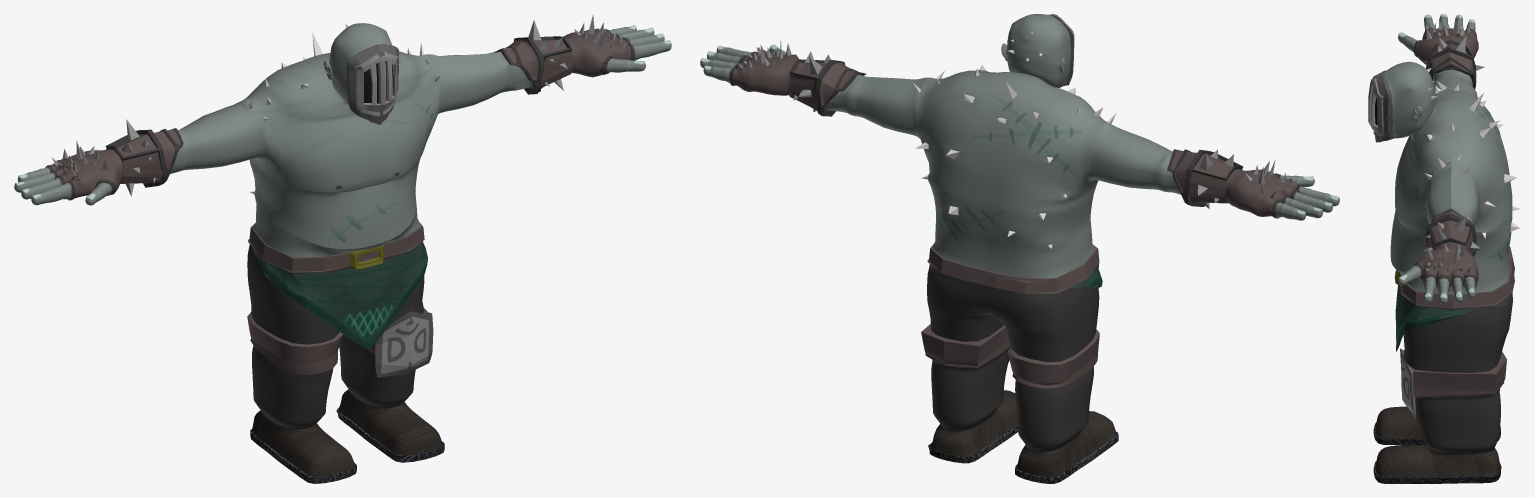
File: BichoGrandeFBX.fbx
3 views of the same model, side by side, from view 1: azimuth 30°, elevation 25°; view 2: azimuth 150°, elevation 25°; view 3: azimuth 270°, elevation 25° (orthographic). The views are drawn at different scales.
Visible parts, largest first — view 1: Body; view 2: Body; view 3: Body.
Boxes of the visible parts, <box> form: Body: <box>14,14,671,483</box>; Body: <box>700,14,1339,483</box>; Body: <box>1368,14,1520,483</box>.
Size of the model in its own units: 1288 by 823 by 293.
Materials: 1 (1 with a texture image).
